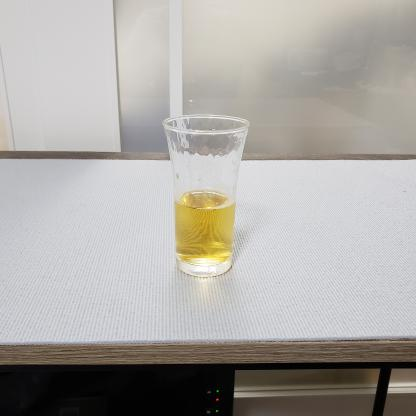glass: (154, 104, 273, 286)
